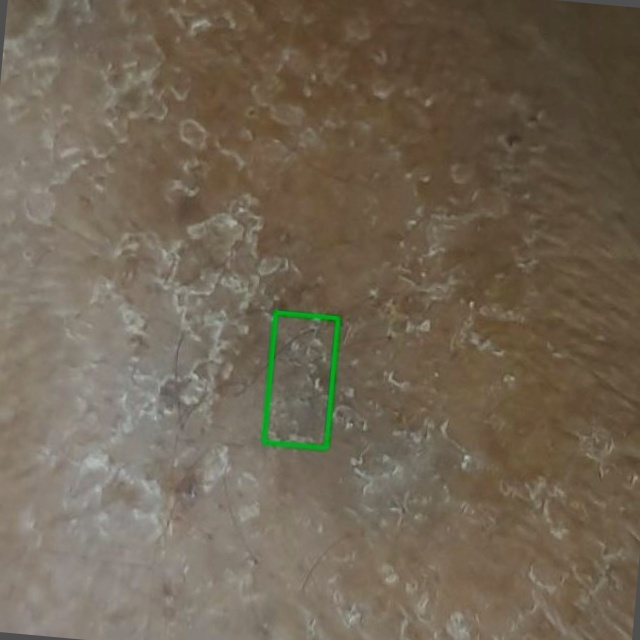Eczema: (263, 312, 337, 447)
